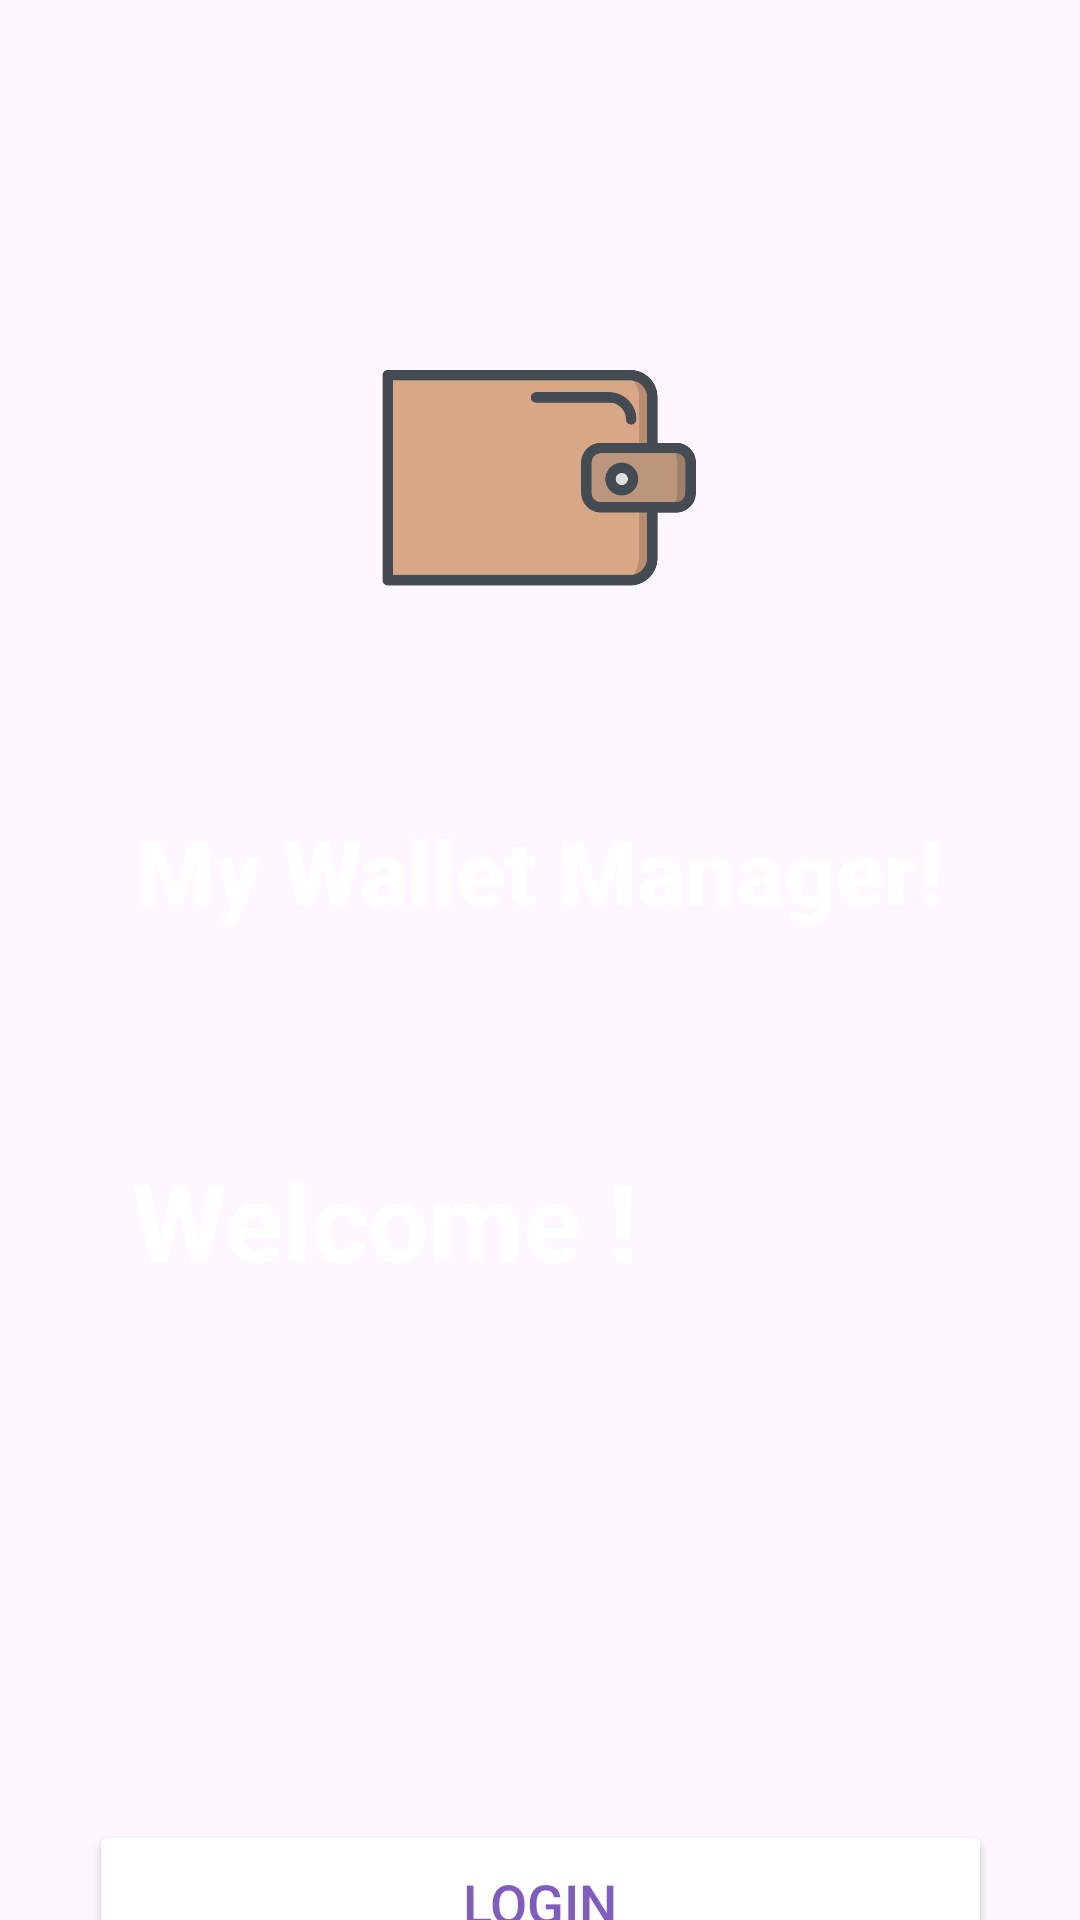

Icon click points for this 1080 x 1920 phone screenshot, format point (x, y):
appicon: point (539, 478)
